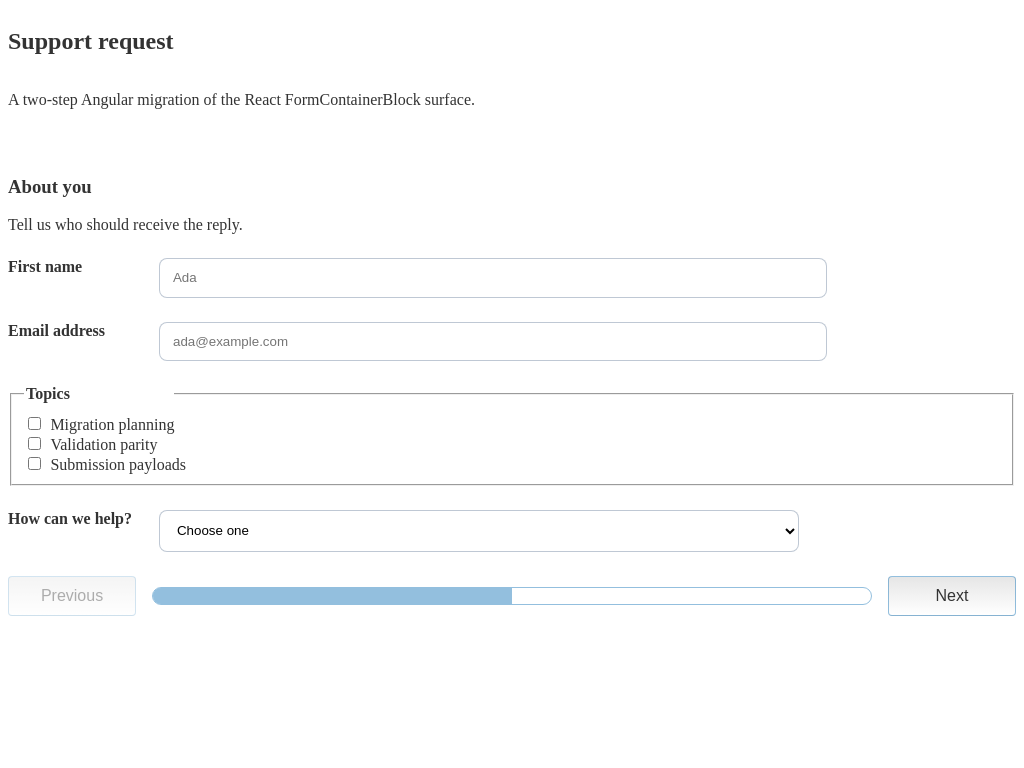
Test: FormContainerComponent › blocks step navigation when required fields are invalid and focuses the first invalid control
The width and height of the screenshot is (1024, 768).
What coordinates should you click on to do the following:
click the button with class "btnNext"
I would click on:
 (952, 596)
Its box is [888, 576, 1016, 616].
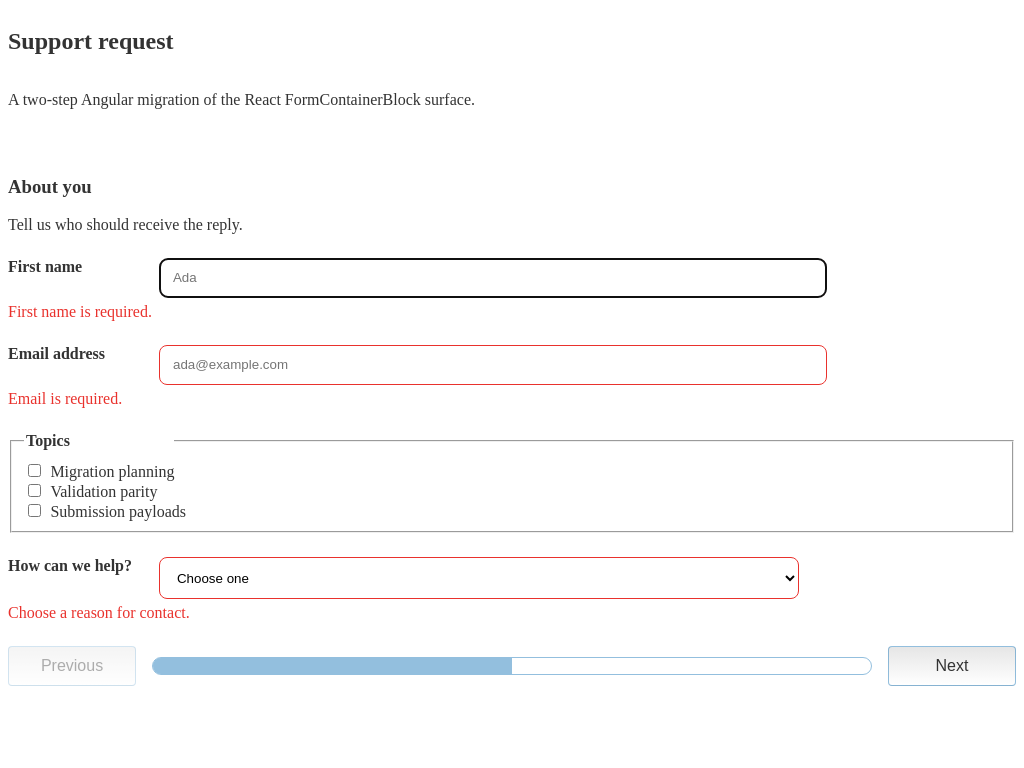
Check: the text "About you" is shown, box [8, 176, 92, 196]
Check: the text "First name is required." is shown, box [8, 303, 152, 320]
Check: the text "Email is required." is shown, box [8, 390, 122, 407]
